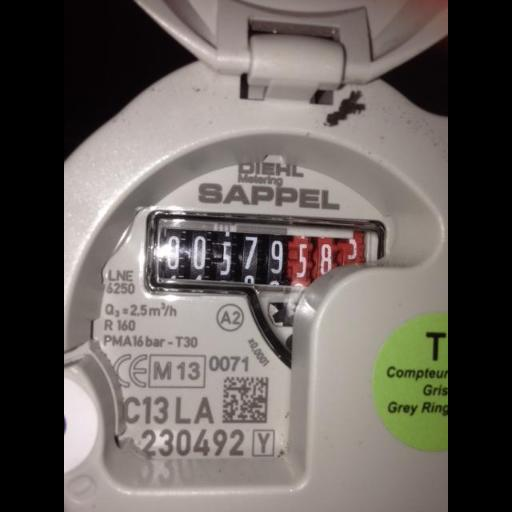0: (189, 230, 207, 281), (164, 229, 181, 279)
5: (292, 236, 311, 287), (216, 231, 234, 282), (345, 237, 361, 263)
7: (241, 233, 260, 284)
8: (318, 237, 334, 278)
9: (266, 235, 286, 286)
border_water_meter_number: (155, 215, 380, 293)
